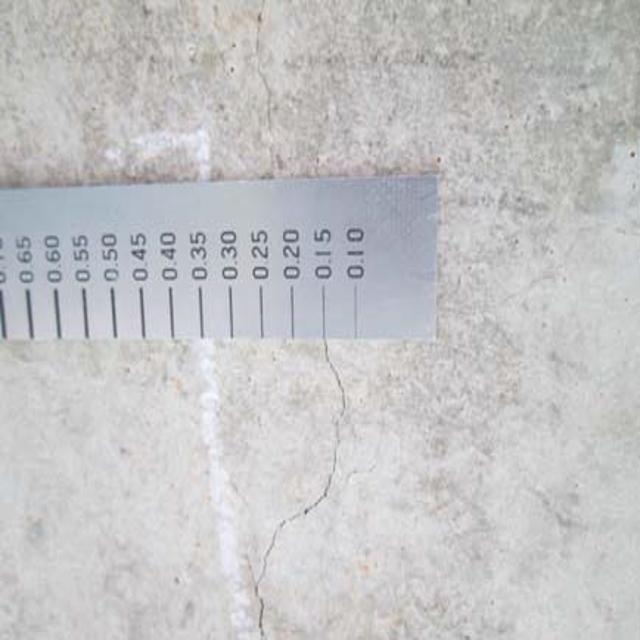crack: (234, 348, 351, 640)
